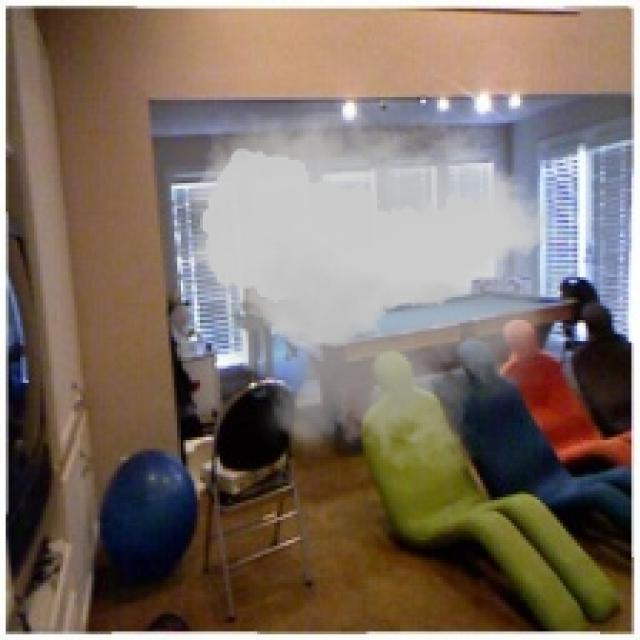smoke: (175, 80, 574, 494)
